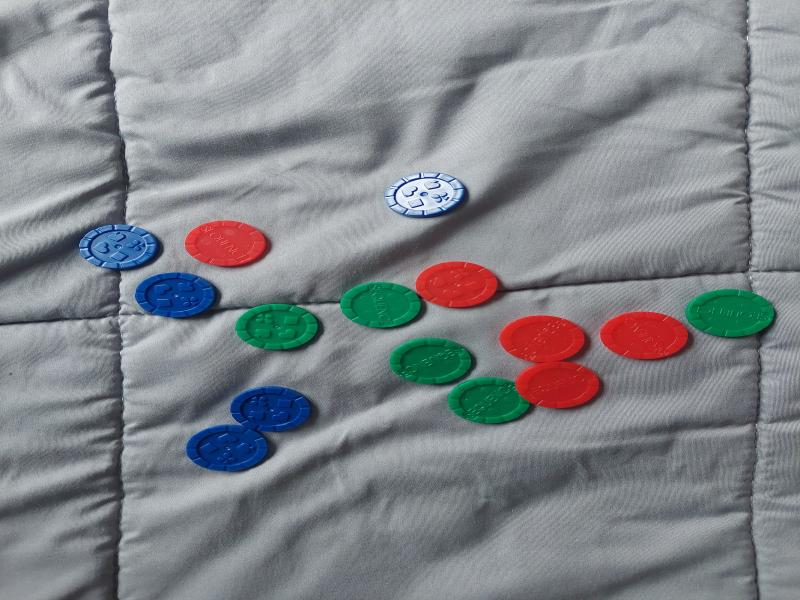Blue_Token: (380, 169, 471, 221), (184, 423, 274, 473), (135, 271, 223, 320), (227, 384, 316, 432), (80, 223, 164, 271)
Green_Token: (685, 286, 781, 338), (231, 302, 326, 353), (388, 334, 480, 386), (338, 280, 431, 330), (444, 377, 535, 426)
Red_Token: (595, 309, 696, 362), (511, 360, 608, 412), (411, 260, 505, 310), (180, 219, 272, 269), (496, 314, 588, 364)
